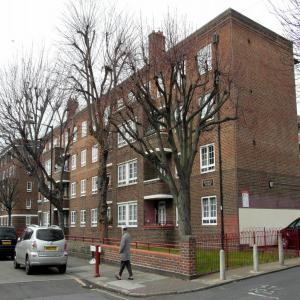Vehicle-registration-plate: (46, 248, 58, 252)
